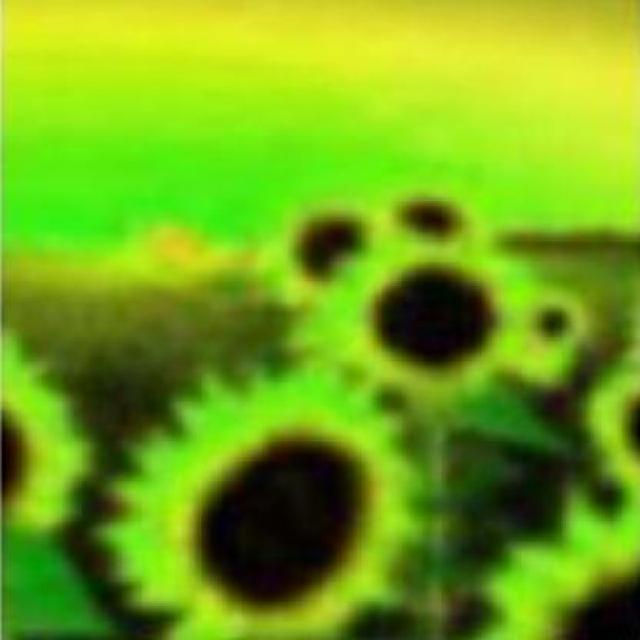sunflower: (101, 374, 417, 640), (358, 241, 530, 401)
